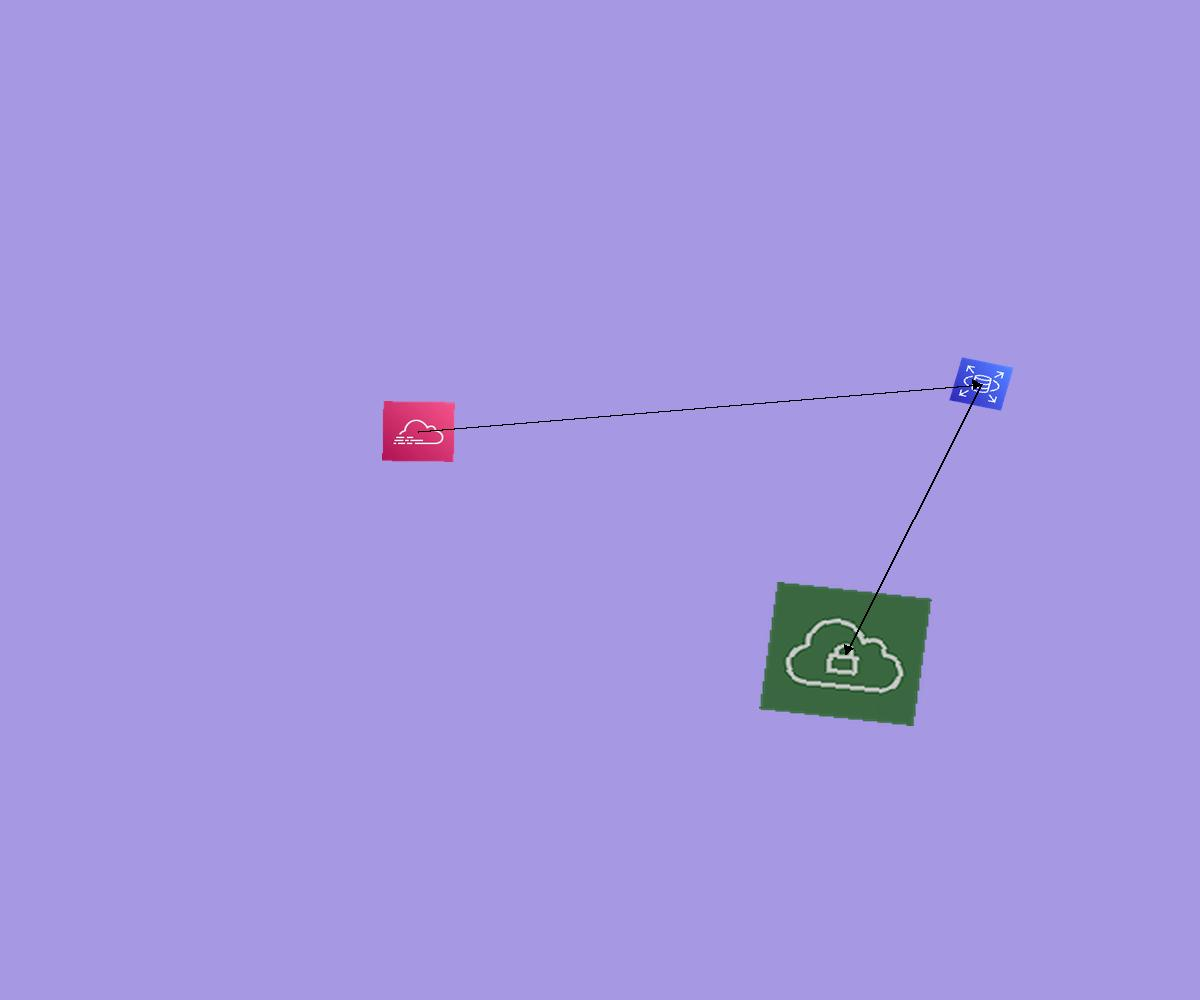AWS-CloudTrail: (382, 401, 455, 462)
AWS-Private_vpc: (759, 582, 932, 726)
AWS-RDS: (949, 357, 1014, 411)
